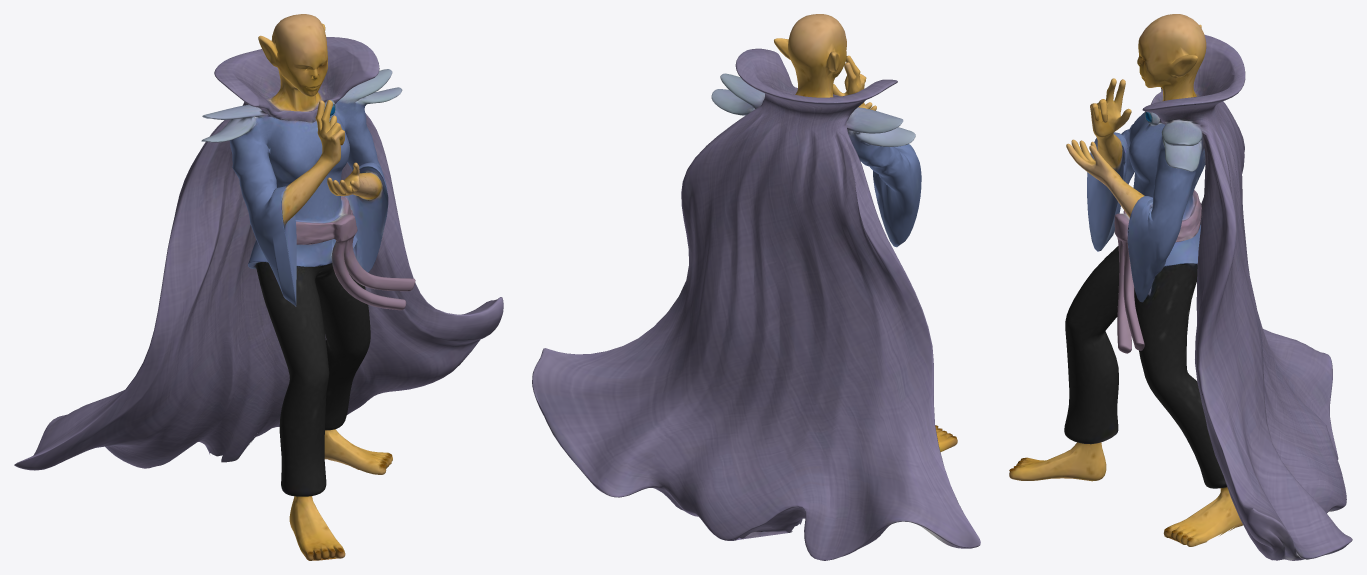
File: MZ4250 - Githzerai Zerth.glb
3 views of the same model, side by side, from view 1: azimuth 30°, elevation 25°; view 2: azimuth 150°, elevation 25°; view 3: azimuth 270°, elevation 25° (orthographic). The views are drawn at different scales.
Parts seen in each view (by area): view 1: default; view 2: default; view 3: default.
Part boxes in pixels (bbox=[...]): default: bbox=[14, 14, 503, 560]; default: bbox=[532, 14, 980, 560]; default: bbox=[1009, 14, 1352, 560].
Bounding box in the file's own units: 1.12 × 1.09 × 0.7049.
1 material, 1 textured.
